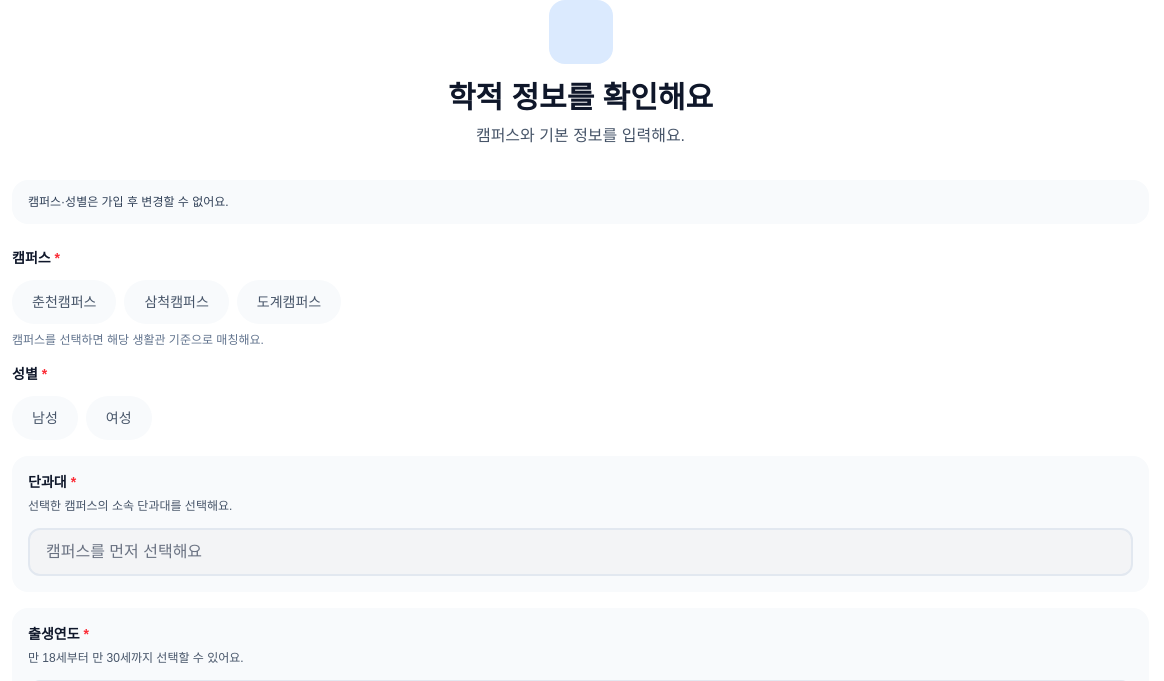
Test: AcademicIdentityStep › 도계캠퍼스의 2026 단과대 catalog를 제공한다
The width and height of the screenshot is (1164, 681).
What coordinates should you click on to do the following:
click the radio button labelled "도계캠퍼스"
I would click on:
 (289, 302)
Its box is [237, 280, 341, 324].
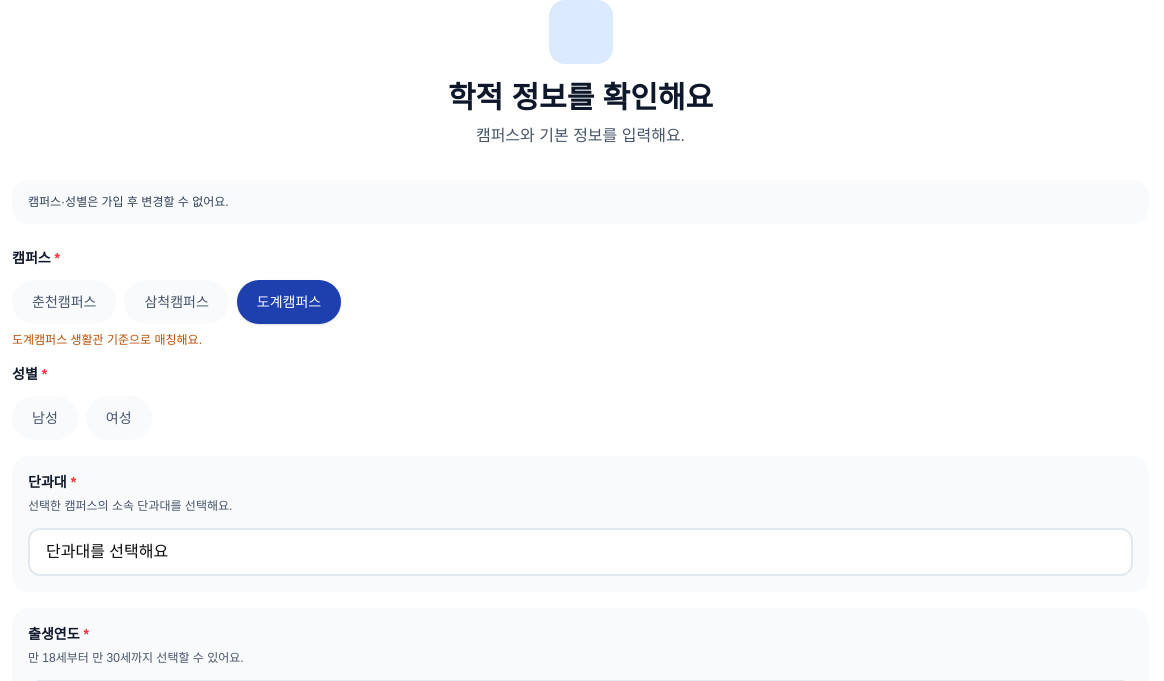
Check: the dropdown labelled "단과대*" is enabled, box [28, 528, 1133, 576]
Check: the text "도계캠퍼스 생활관 기준으로 매칭해요." is shown, box [12, 333, 202, 347]
